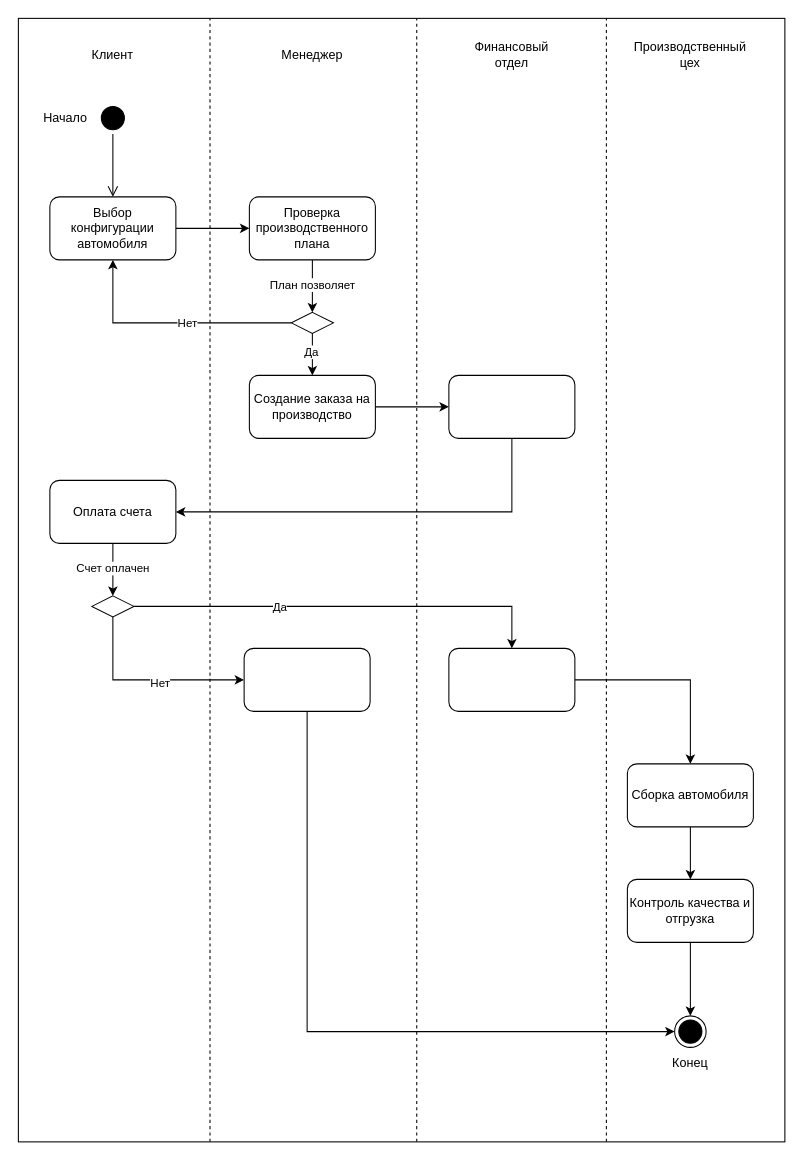
Image size: 803x1161. Some labels were removed from this diagram. Here are the shapes that lost their labels. From the top down, the centre of each, then its label:
point (511, 406): Оформление счета
point (306, 679): Отмена заказа
point (511, 679): Выписка накладной
